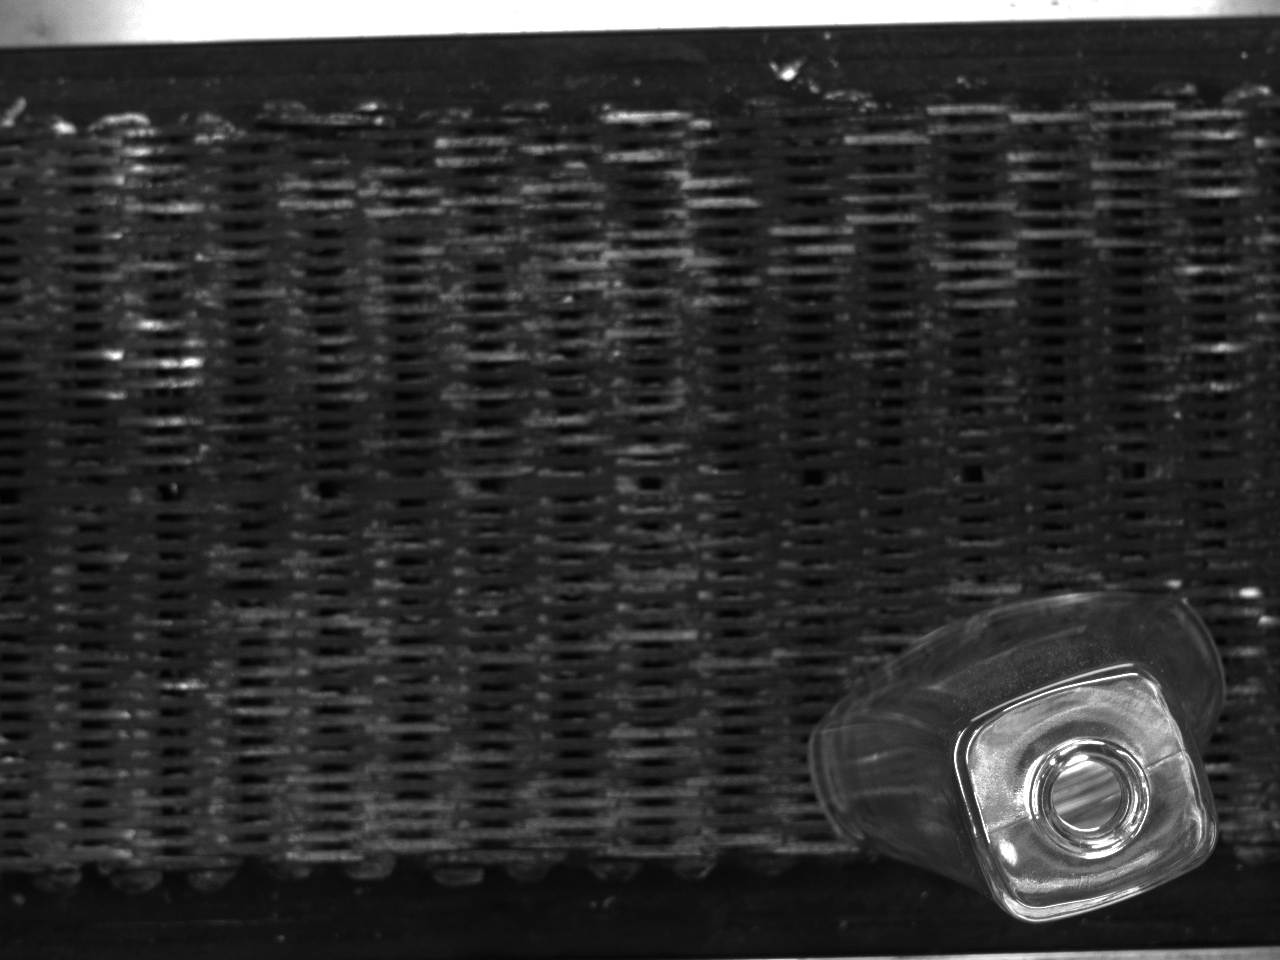bottleneck: (1029, 737, 1152, 858)
